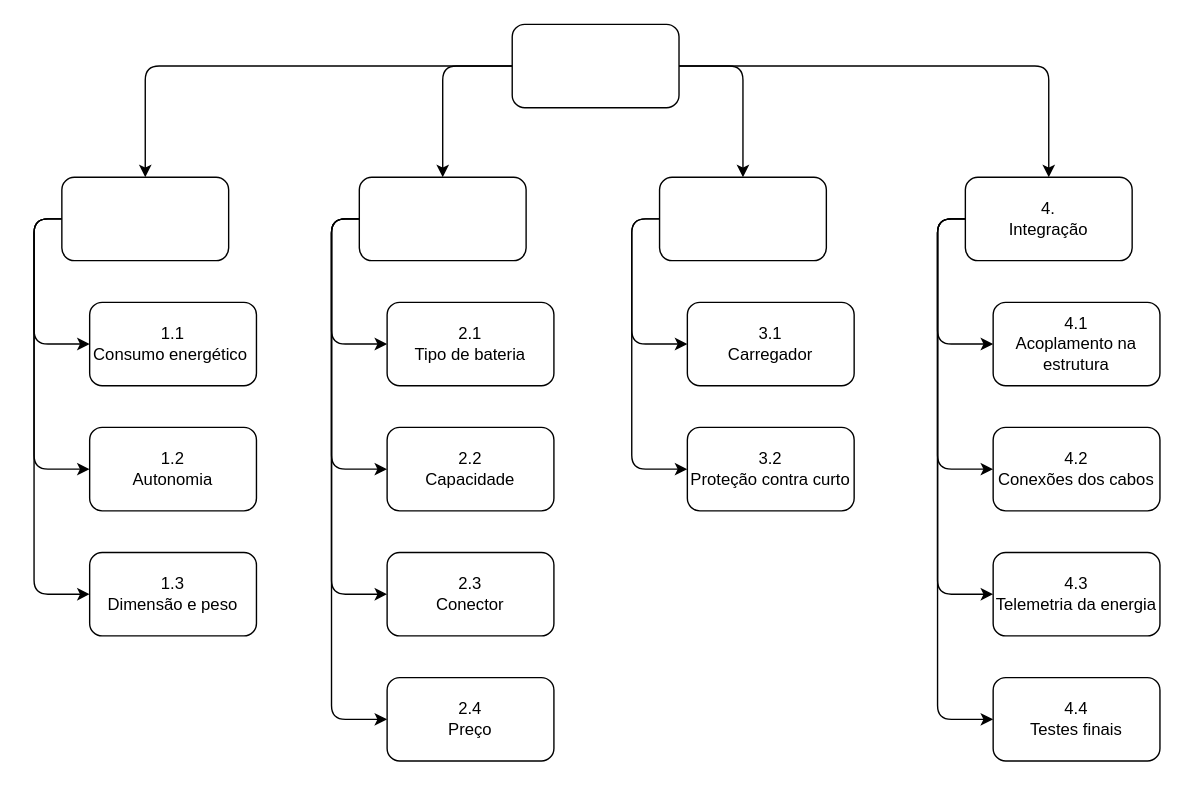
This 1184x785 diagram has some shape labels left out. The shapes that lost their labels are listed below. From the top down, each one's centre as x and y in pixels, then its label:
At point 595,65: "Energia".
At point 144,218: "1. Teoria".
At point 442,218: "2. Seleção".
At point 742,218: "3. Projeto".
